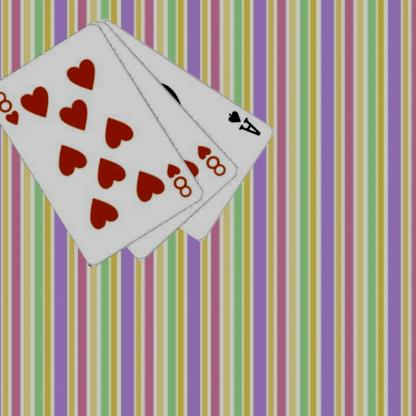8H: (195, 142, 228, 178), (164, 160, 193, 200), (0, 88, 21, 127)
AS: (226, 108, 262, 138)
